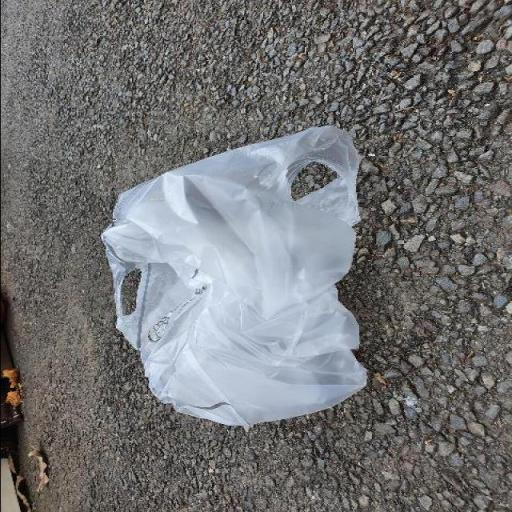plastic-bag: (98, 123, 372, 430)
